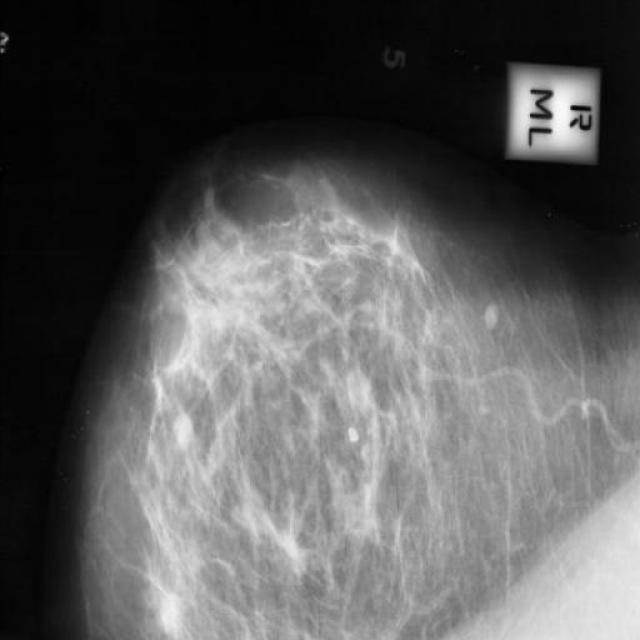cancer: (121, 536, 190, 636)
